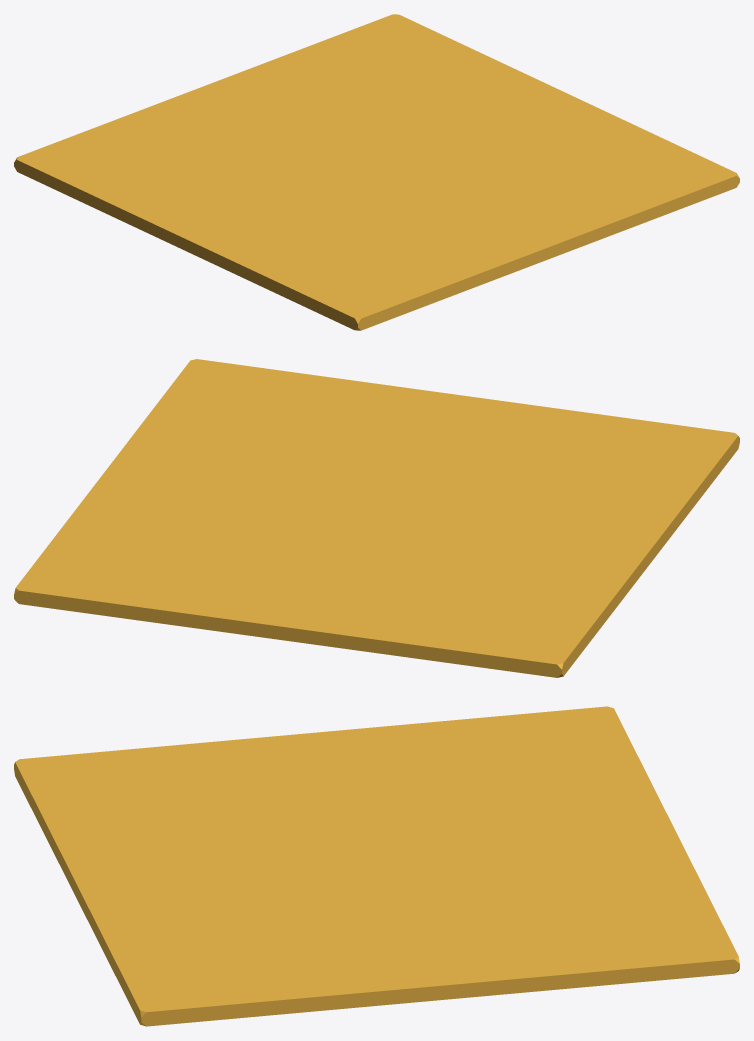
File: CheeseSlice.glb
3 views of the same model, one above another, from view 1: azimuth 30°, elevation 25°; view 2: azimuth 150°, elevation 25°; view 3: azimuth 270°, elevation 25° (orthographic). The views are drawn at different scales.
Visible parts, largest first — view 1: CheeseSlice; view 2: CheeseSlice; view 3: CheeseSlice.
Part boxes in pixels (x1,y1,x2,y2): CheeseSlice: (14,14,739,330); CheeseSlice: (14,359,739,677); CheeseSlice: (14,706,739,1026).
Bounding box in the file's own units: 0.1838 × 0.004 × 0.1838.
